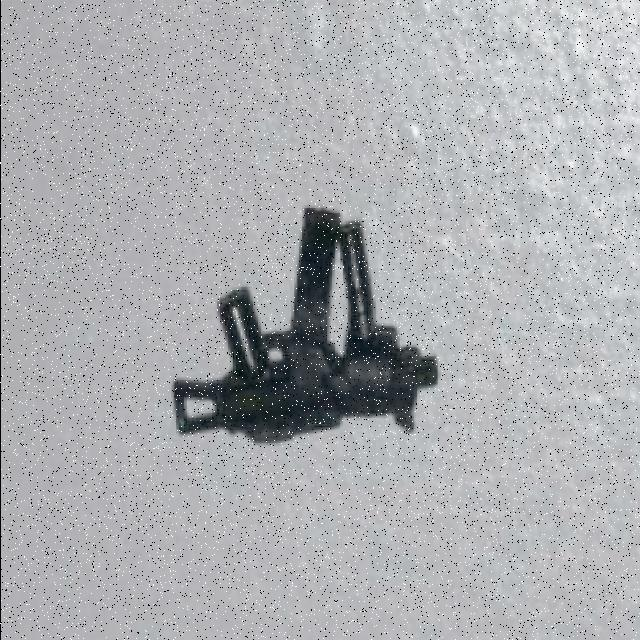Rifle: (171, 206, 438, 446)
